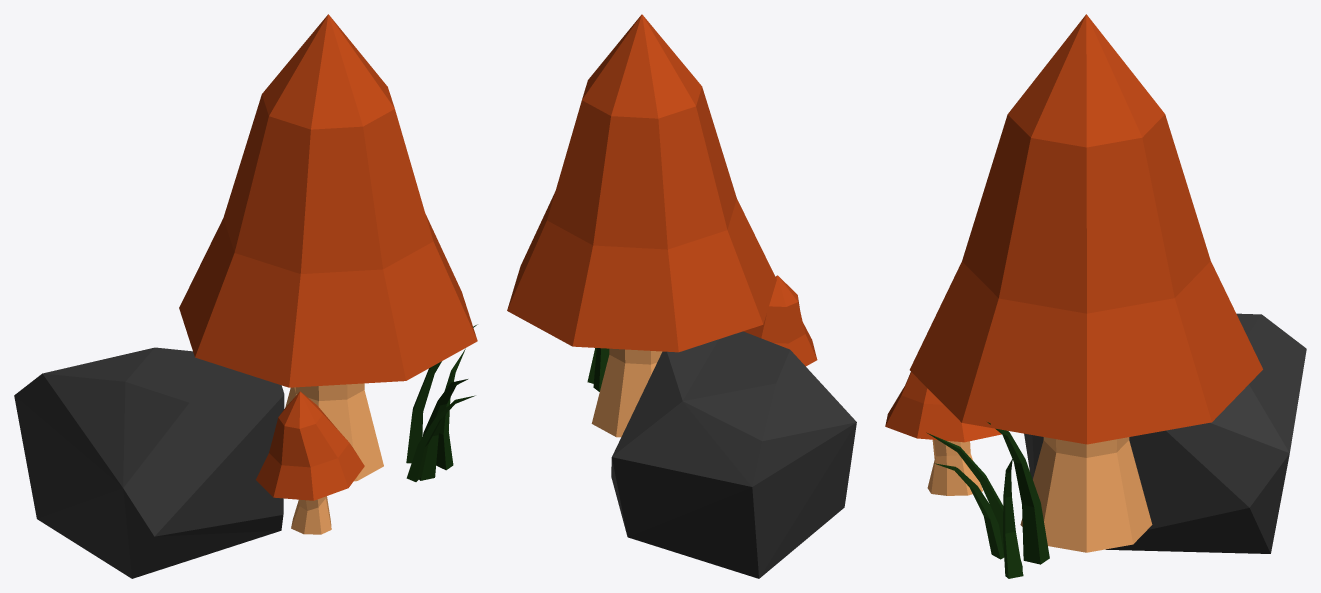
Rendered from mushroom2.obj.
The picture shows the model from 3 angles, left to right: view 1: azimuth 30°, elevation 25°; view 2: azimuth 150°, elevation 25°; view 3: azimuth 270°, elevation 25°; orthographic projection. The views are drawn at different scales.
Visible parts, largest first — view 1: Mushrooms_grass2_Cylinder.070; view 2: Mushrooms_grass2_Cylinder.070; view 3: Mushrooms_grass2_Cylinder.070.
Part boxes in pixels (x1=…): Mushrooms_grass2_Cylinder.070: x1=14, y1=14, x2=477, y2=578; Mushrooms_grass2_Cylinder.070: x1=507, y1=14, x2=856, y2=578; Mushrooms_grass2_Cylinder.070: x1=885, y1=14, x2=1306, y2=578.
Size of the model in its own units: 1.01 by 1.39 by 0.9043.
